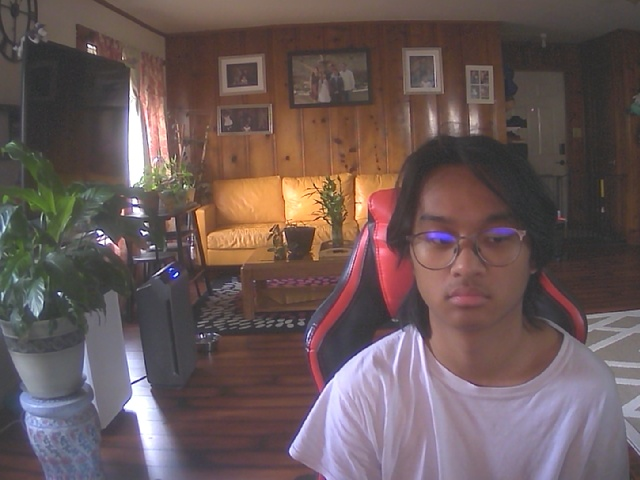neutral: (402, 135, 545, 332)
